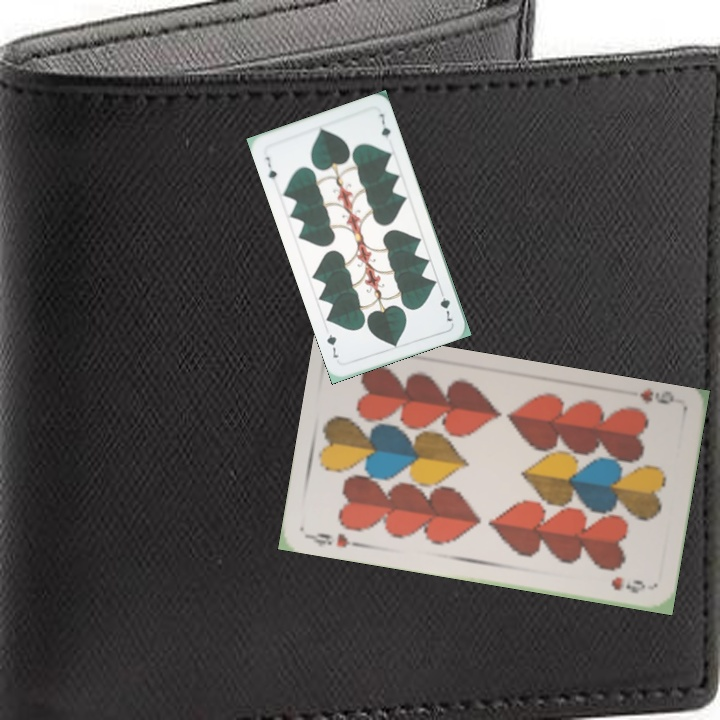G7: (436, 285, 455, 324), (261, 152, 280, 182)
H9: (305, 528, 364, 550), (636, 386, 677, 407)
